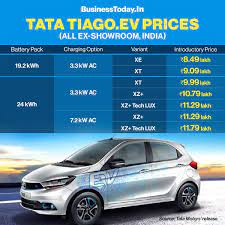Tiago: (17, 136, 202, 224)
